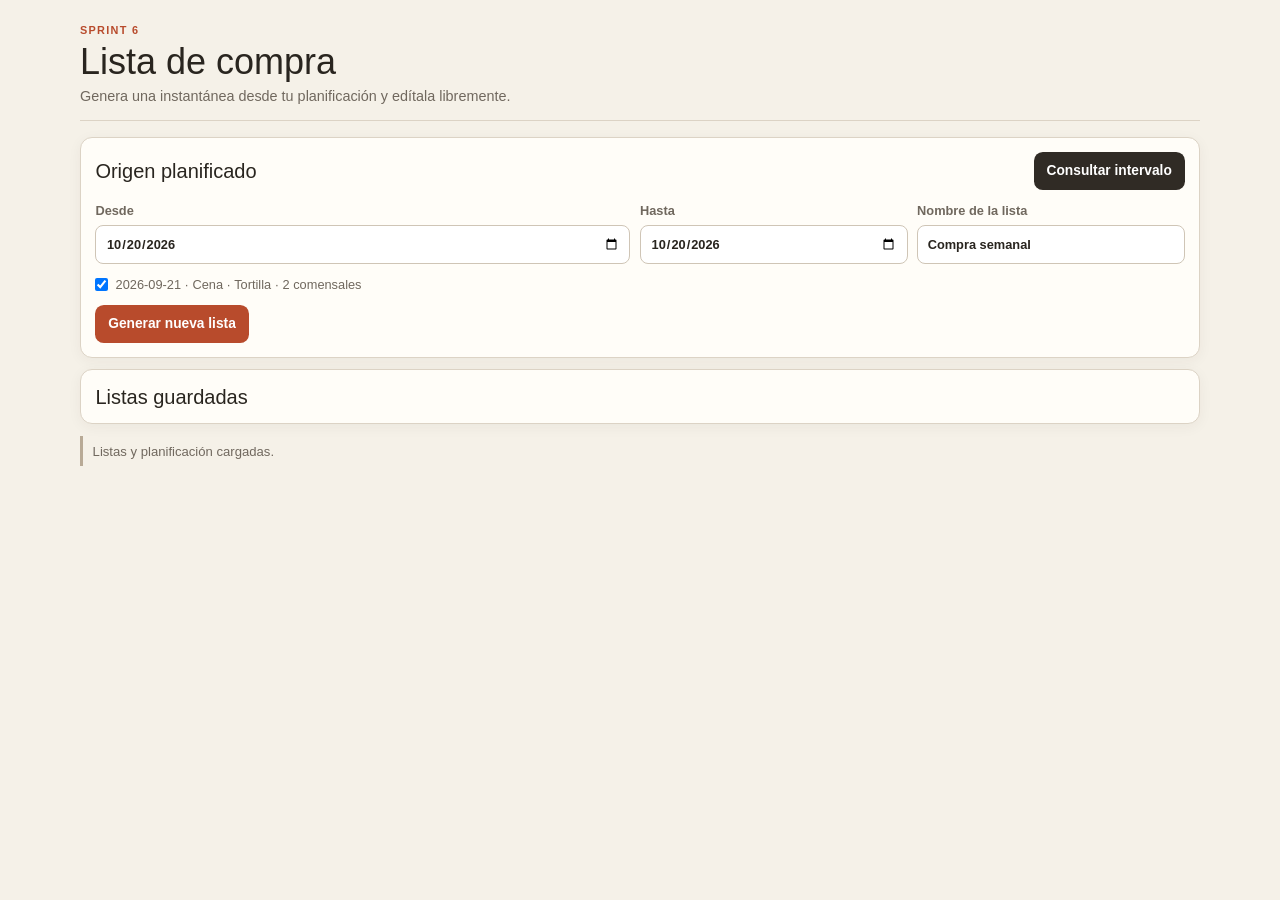
Scenario: ShoppingWorkspace › allows excluding a planned meal before generating a new snapshot
The width and height of the screenshot is (1280, 900).
Click the checkbox labelled "2026-09-21 · Cena · Tortilla · 2 comensales" at (102, 284), box [95,278,108,291]
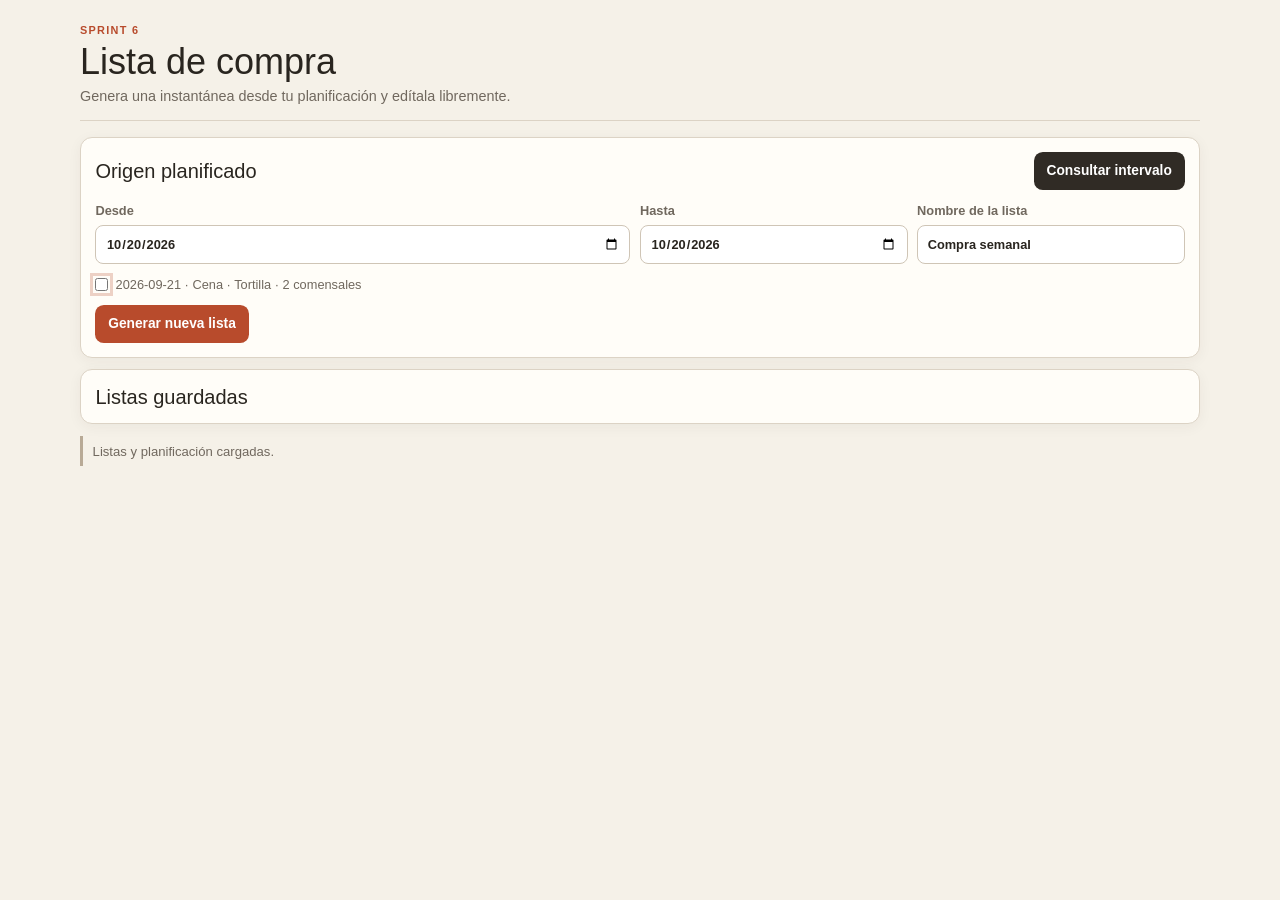
Click the button "Generar nueva lista" at (172, 324), box [95,305,249,343]
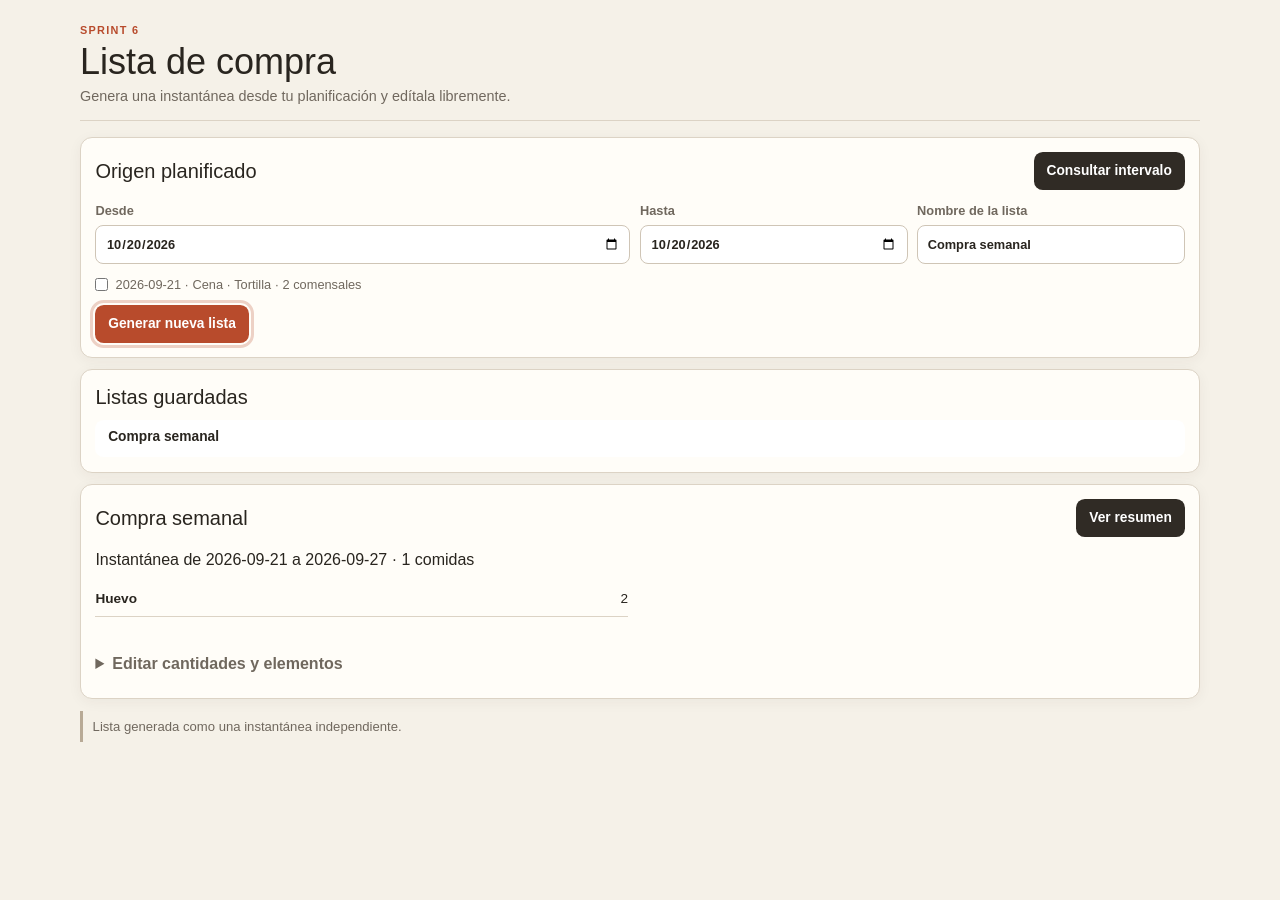
Check: the element named "Totales de compra" is shown, box [95,582,628,617]
